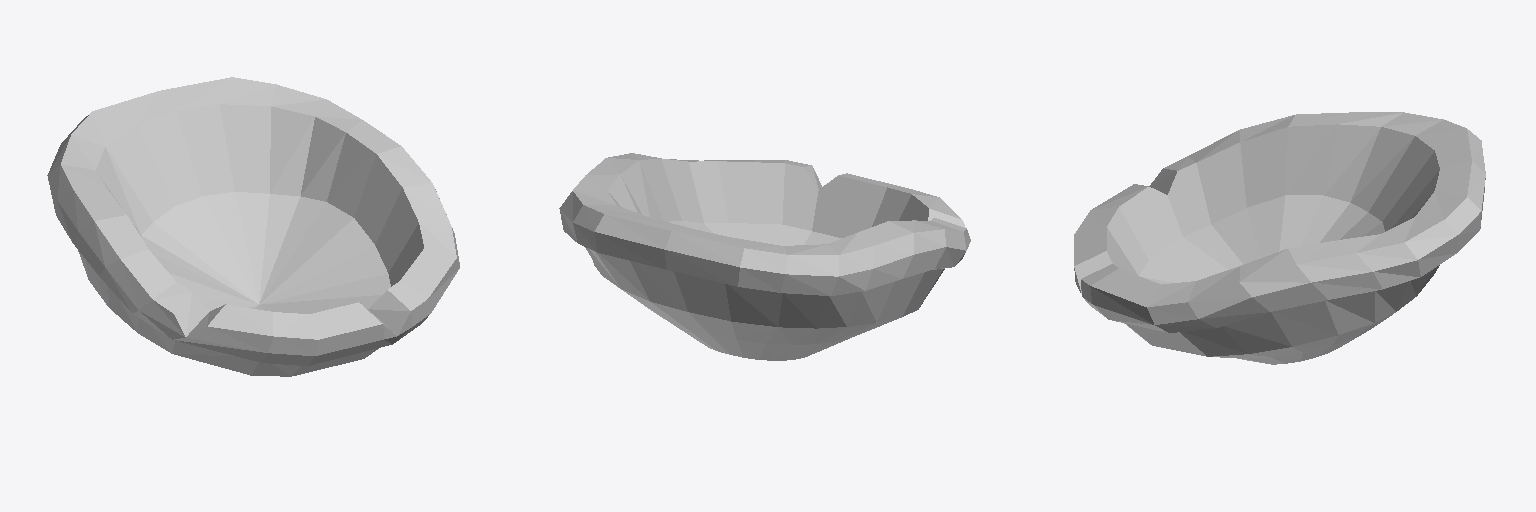
Rendered from character_skeleton_mage_cowl.obj.
The picture shows the model from 3 angles: view 1: azimuth 30°, elevation 25°; view 2: azimuth 150°, elevation 25°; view 3: azimuth 270°, elevation 25°; orthographic projection.
Parts seen in each view (by area): view 1: character_skeleton_mage_cowl_Cube.7685; view 2: character_skeleton_mage_cowl_Cube.7685; view 3: character_skeleton_mage_cowl_Cube.7685.
Boxes of the visible parts, x1,y1,x2,y2 form: character_skeleton_mage_cowl_Cube.7685: [47, 77, 459, 376]; character_skeleton_mage_cowl_Cube.7685: [559, 153, 970, 360]; character_skeleton_mage_cowl_Cube.7685: [1074, 112, 1485, 364].
Size of the model in its own units: 0.9334 by 0.5151 by 1.01.